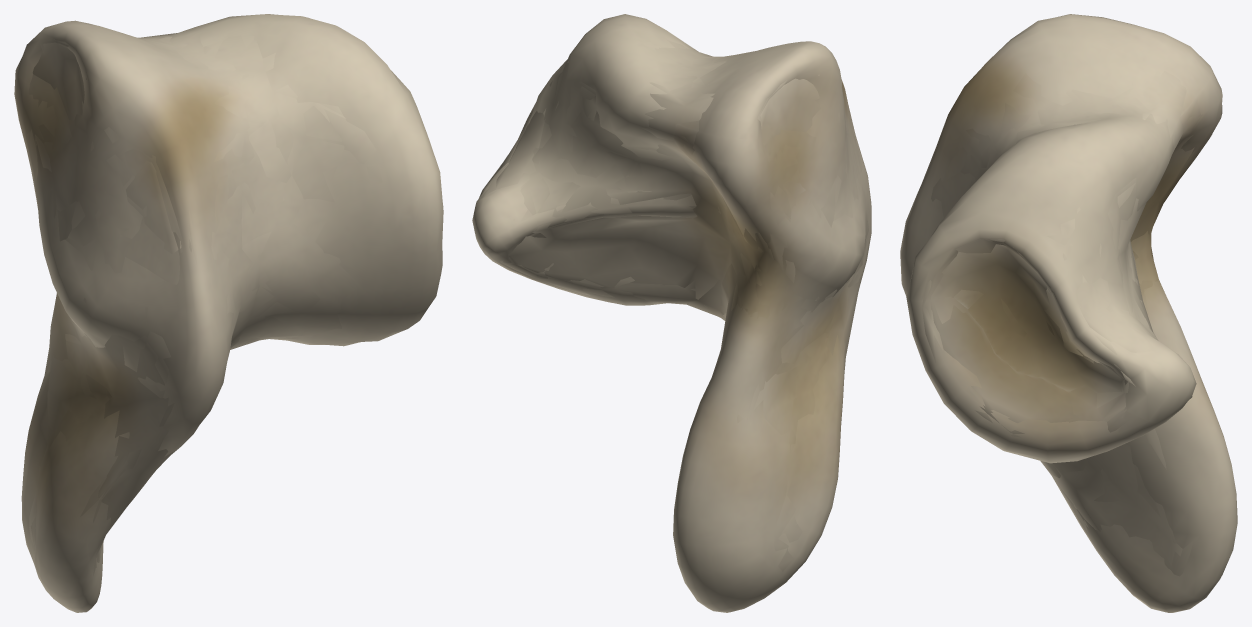
Rendered from L talus.fbx.
3 views of the same model, side by side, from view 1: azimuth 30°, elevation 25°; view 2: azimuth 150°, elevation 25°; view 3: azimuth 270°, elevation 25° (orthographic). The views are drawn at different scales.
Visible parts, largest first — view 1: L talus high, L talus, L talus low; view 2: L talus high, L talus low, L talus; view 3: L talus high, L talus low, L talus.
Part boxes in pixels (box(x1,y1,x2,y2)): L talus high: box(14, 14, 443, 612); L talus: box(23, 28, 382, 575); L talus low: box(29, 33, 345, 562); L talus high: box(472, 14, 871, 612); L talus low: box(495, 47, 866, 551); L talus: box(481, 35, 868, 571); L talus high: box(900, 14, 1237, 612); L talus low: box(930, 71, 1200, 566); L talus: box(922, 71, 1202, 576).
Size of the model in its own units: 4.99 by 7.79 by 4.1.
